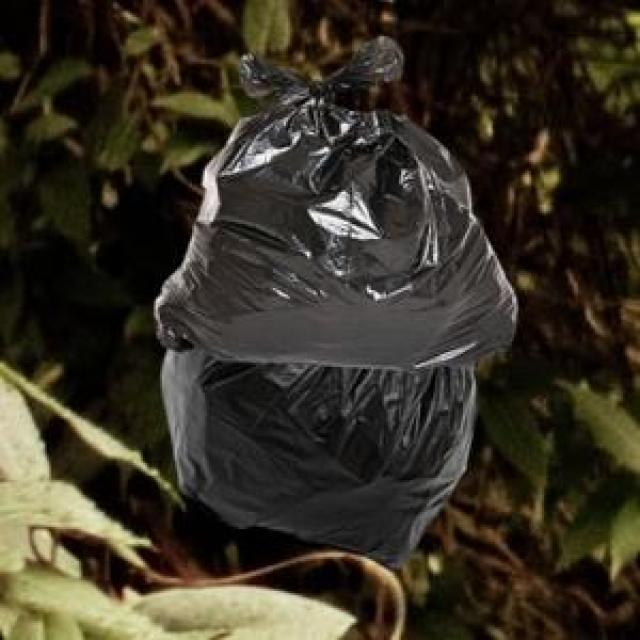Trashbag: (144, 19, 530, 364), (158, 333, 484, 566)
